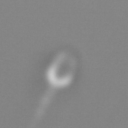normal: (25, 87, 69, 128)
